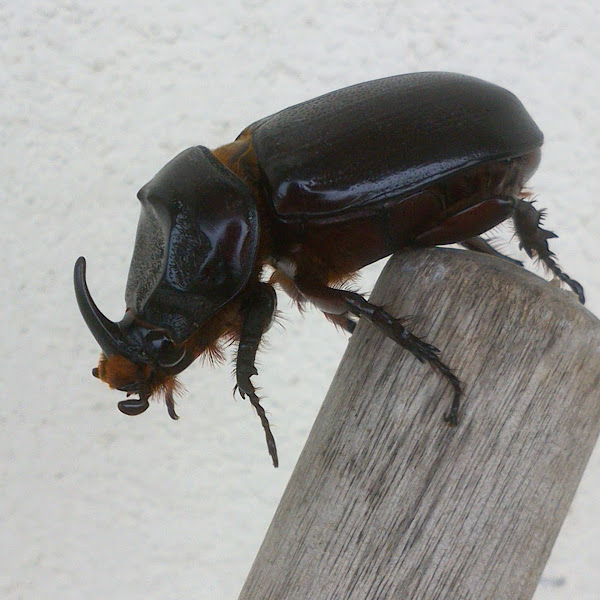coconut rhinoceros beetle: (43, 62, 578, 429)
